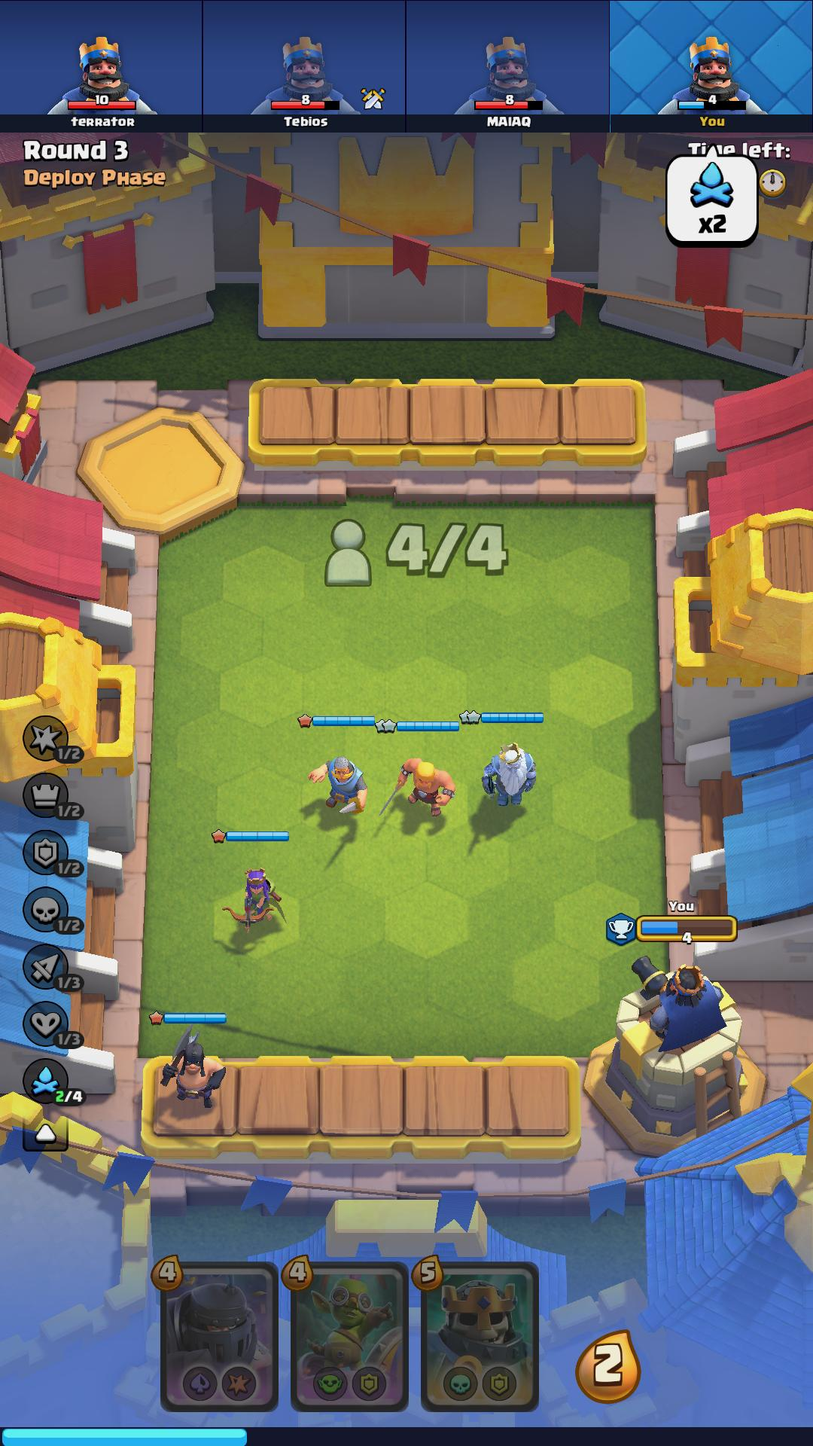barbarian: (386, 748, 458, 818)
executioner: (157, 1027, 223, 1111)
ghost: (474, 729, 547, 818)
hand-king: (422, 1265, 538, 1408)
hand-machine: (296, 1267, 407, 1407)
hand-mega: (161, 1267, 277, 1408)
knight: (305, 743, 370, 820)
queen: (220, 861, 297, 940)
